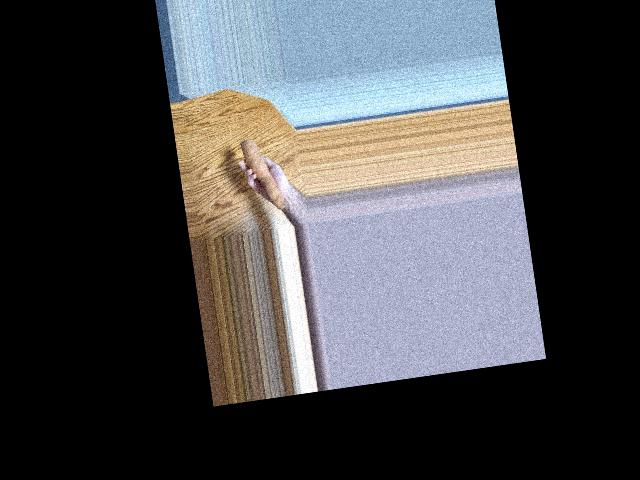sweet_potato: (238, 134, 287, 216)
